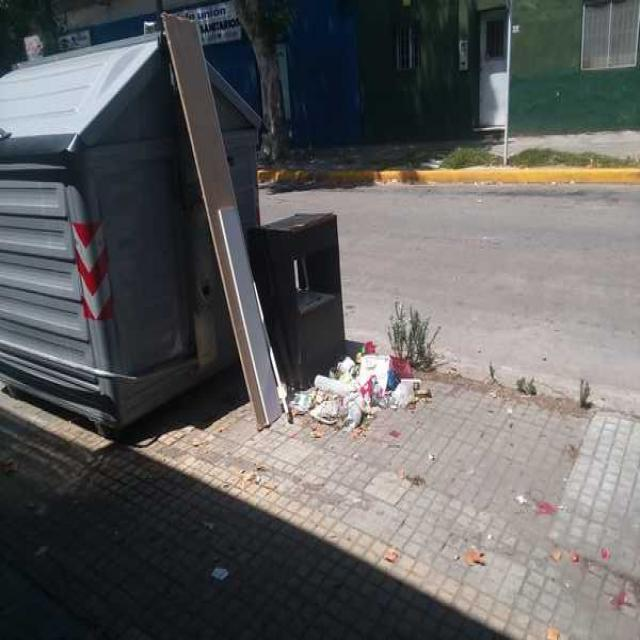garbage: (261, 318, 431, 448), (364, 516, 416, 583), (202, 544, 234, 600), (452, 533, 490, 576)
